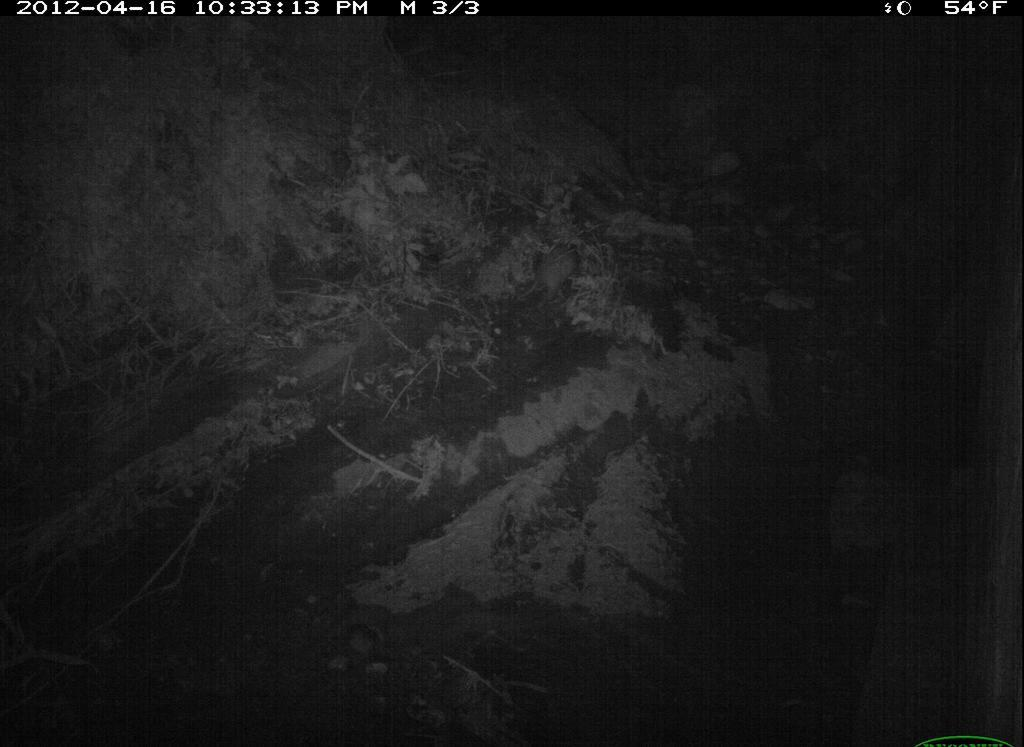opossum: (509, 216, 597, 328)
